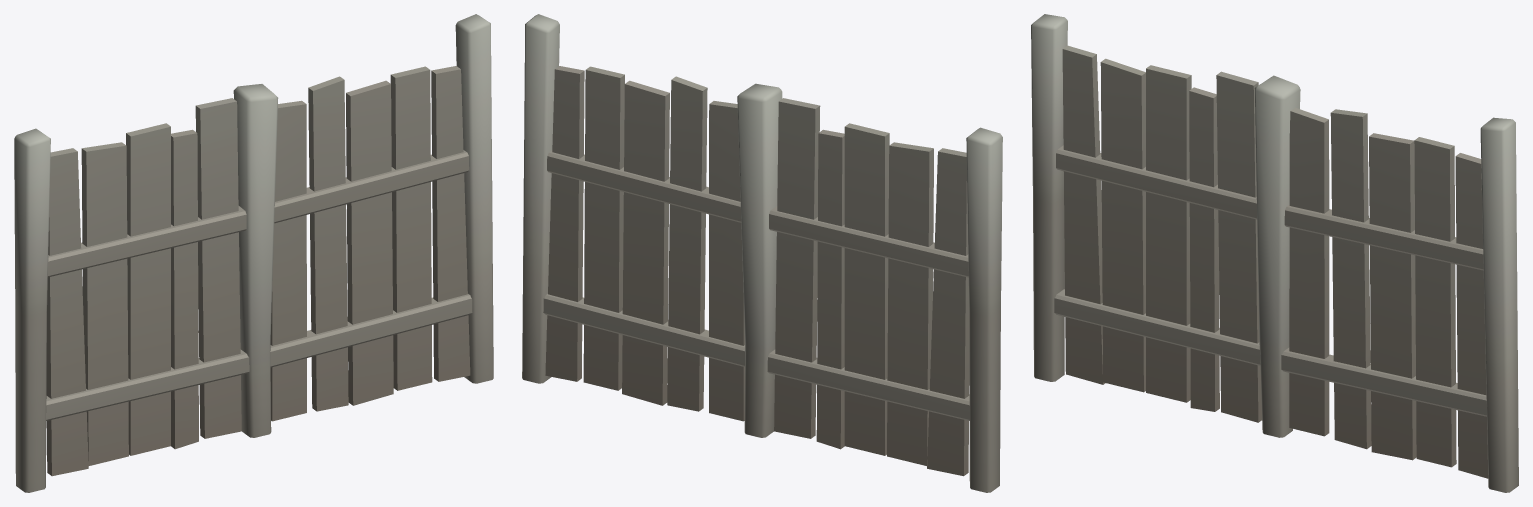
The model's file is WallFence_2_2_B.fbx.
3 renders of one model, left to right at view 1: azimuth 30°, elevation 25°; view 2: azimuth 150°, elevation 25°; view 3: azimuth 330°, elevation 25°, orthographic.
Parts seen in each view (by area): view 1: WallFence_2_2_B; view 2: WallFence_2_2_B; view 3: WallFence_2_2_B.
Part boxes in pixels (x1=…): WallFence_2_2_B: x1=14, y1=14, x2=493, y2=492; WallFence_2_2_B: x1=522, y1=14, x2=1002, y2=492; WallFence_2_2_B: x1=1031, y1=14, x2=1518, y2=492.
Bounding box in the file's own units: 209 × 152 × 14.3.
